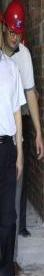boots: (18, 227, 30, 237), (0, 197, 6, 215)
hard-hat: (0, 31, 11, 57)
